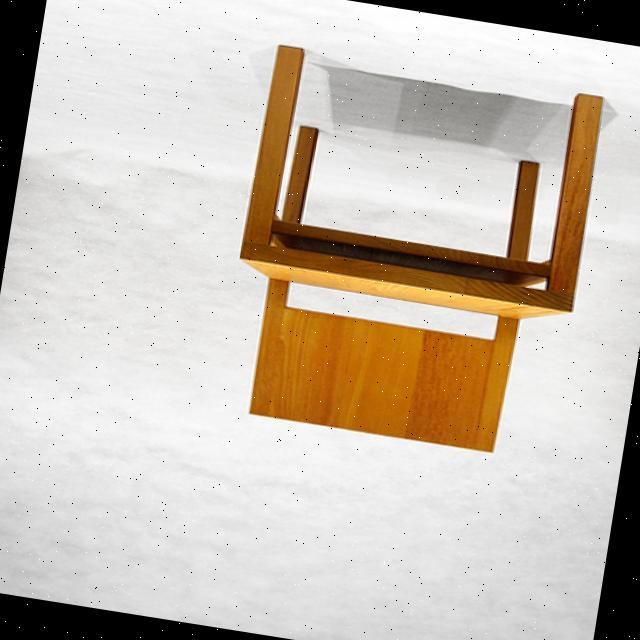Chair: (162, 11, 640, 491)
